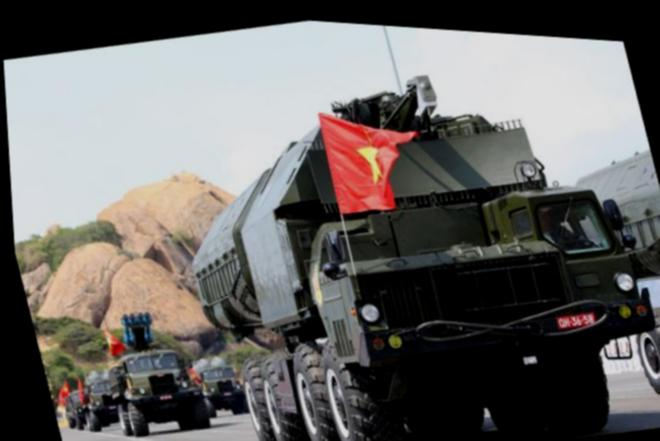License_Plate: (550, 303, 595, 336)
